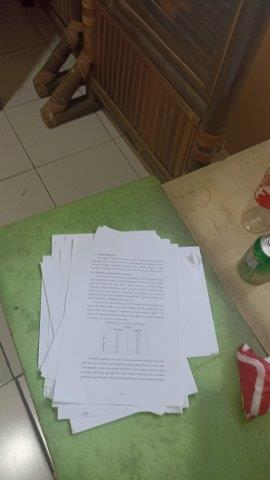kertas: (39, 229, 221, 438)
